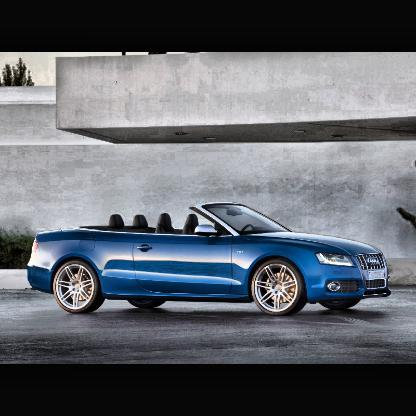Audi S5 Convertible 2012: (28, 203, 391, 315)
